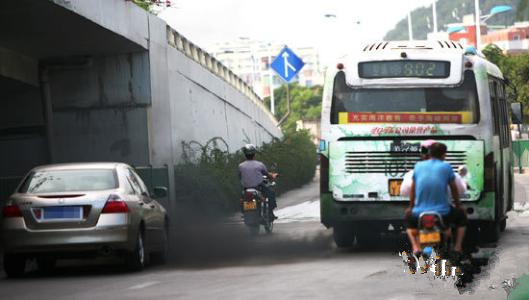smoke: (145, 225, 341, 267)
